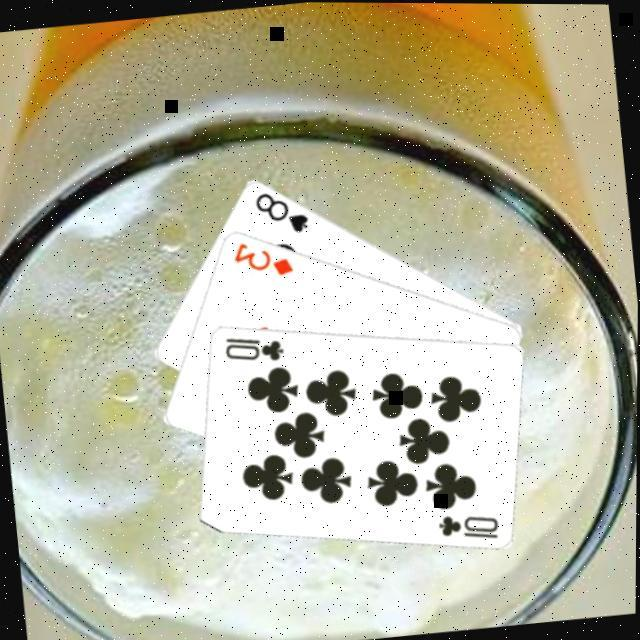10C: (433, 508, 502, 547), (218, 330, 286, 369)
3D: (227, 233, 296, 284)
8S: (250, 185, 313, 241)
